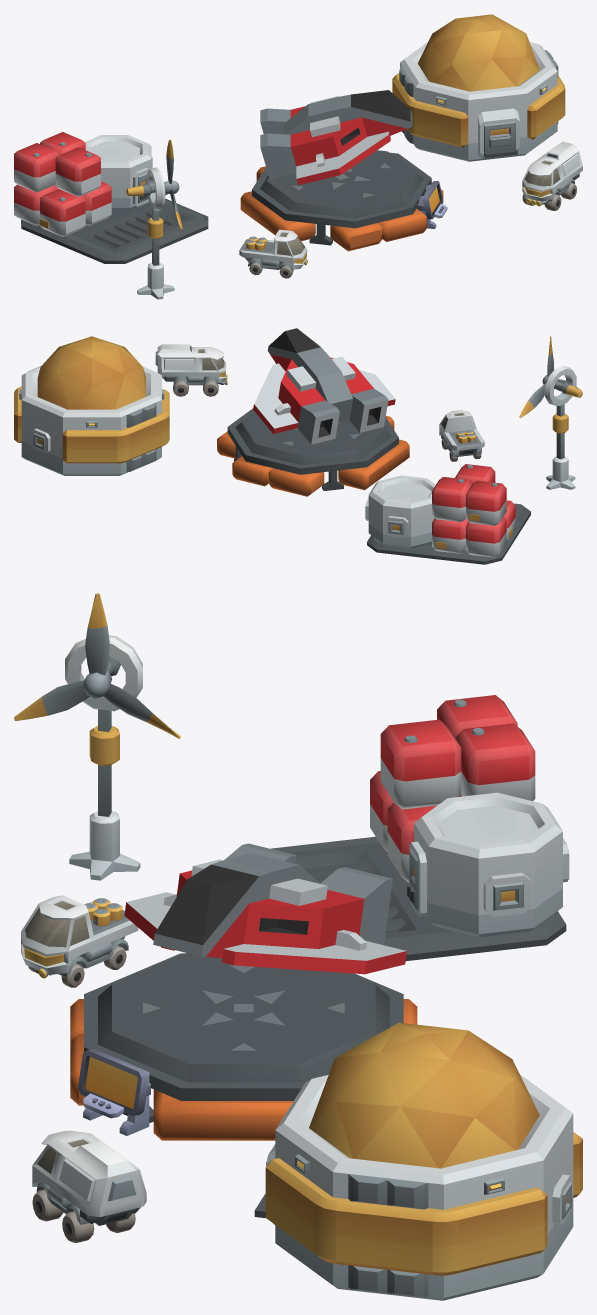
File: FlynetPreview-transformed.glb
3 renders of one model, top to bottom at view 1: azimuth 30°, elevation 25°; view 2: azimuth 150°, elevation 25°; view 3: azimuth 270°, elevation 25°, orthographic. The views are drawn at different scales.
Visible parts, largest first — view 1: landingpad_large, craft_speederB, computer-screen; view 2: landingpad_large, craft_speederB; view 3: landingpad_large, craft_speederB, computer-screen.
Part boxes in pixels (box(x1,y1,x2,y2)): landingpad_large: box(14, 14, 582, 299); craft_speederB: box(260, 90, 412, 185); computer-screen: box(417, 181, 447, 229); landingpad_large: box(14, 336, 582, 564); craft_speederB: box(253, 328, 395, 444); landingpad_large: box(14, 593, 582, 1300); craft_speederB: box(124, 843, 406, 974); computer-screen: box(78, 1049, 150, 1135).
Bounding box in the file's own units: 16.37 × 4.53 × 8.19.
6 materials, 2 textured.
